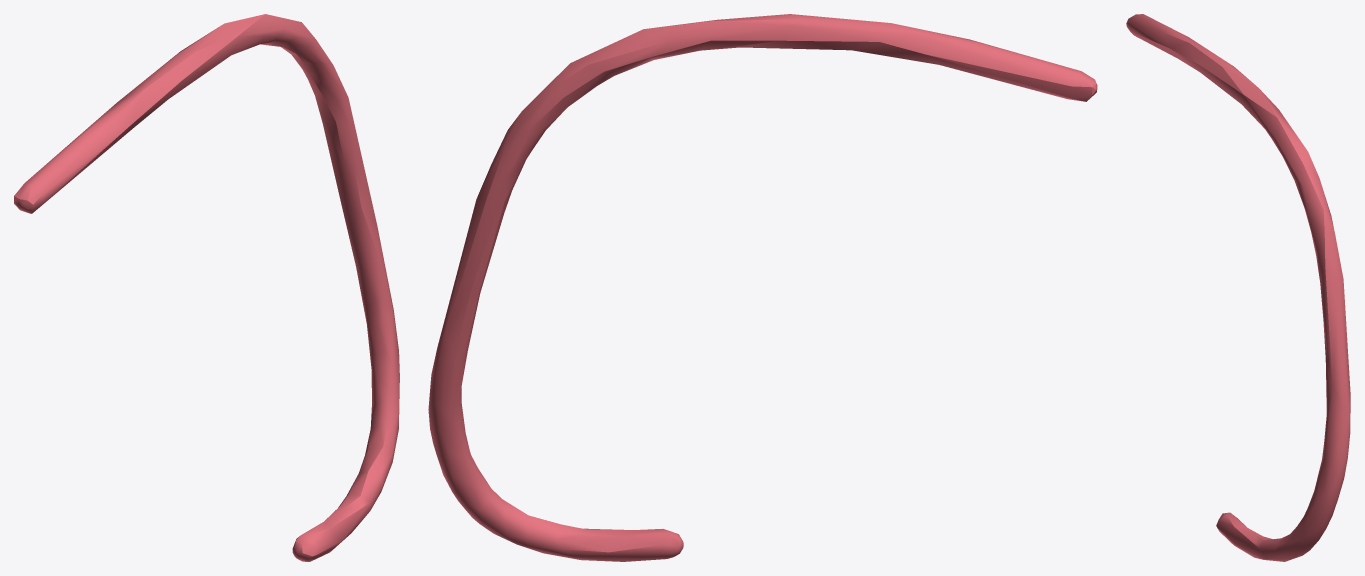
The model's file is fma15394_fj3429.glb.
3 views of the same model, side by side, from view 1: azimuth 30°, elevation 25°; view 2: azimuth 150°, elevation 25°; view 3: azimuth 270°, elevation 25° (orthographic). The views are drawn at different scales.
Parts seen in each view (by area): view 1: FMA15394_FJ3429; view 2: FMA15394_FJ3429; view 3: FMA15394_FJ3429.
Part boxes in pixels (x1,y1,x2,y2): FMA15394_FJ3429: (14,14,399,561); FMA15394_FJ3429: (428,14,1097,561); FMA15394_FJ3429: (1126,14,1350,561).
Size of the model in its own units: 0.0373 by 0.0384 by 0.0183.
